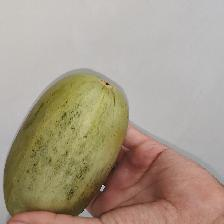gua: (38, 81, 109, 209)
